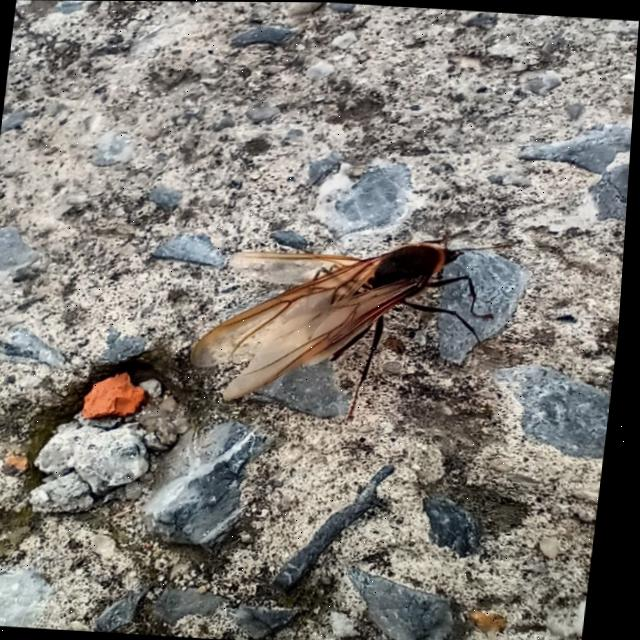Alive-Male-Alate: (188, 191, 522, 430)
